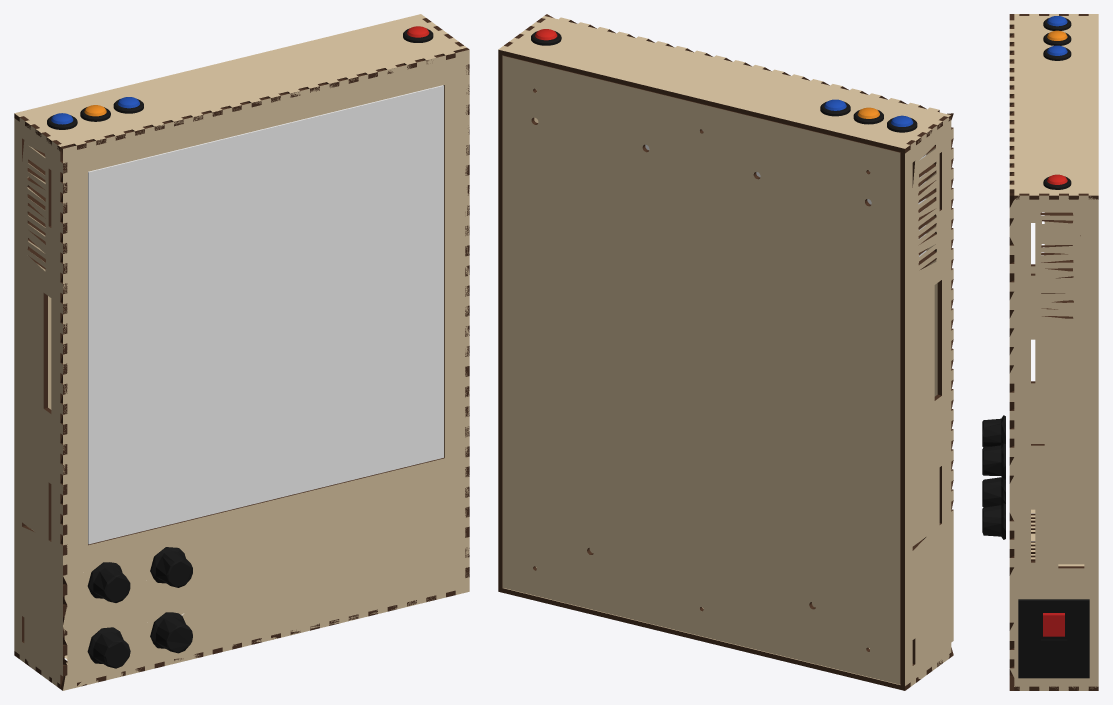
Rendered from light.glb.
The picture shows the model from 3 angles, left to right: view 1: azimuth 30°, elevation 25°; view 2: azimuth 150°, elevation 25°; view 3: azimuth 270°, elevation 25°; orthographic projection. The views are drawn at different scales.
Parts seen in each view (by area): view 1: body, l; view 2: body; view 3: body.
Part boxes in pixels (bbox=[...]): body: bbox=[14, 14, 469, 690]; l: bbox=[88, 86, 443, 544]; body: bbox=[498, 14, 953, 690]; body: bbox=[982, 14, 1098, 690].
Size of the model in its own units: 29.95 by 37.88 by 7.92.
